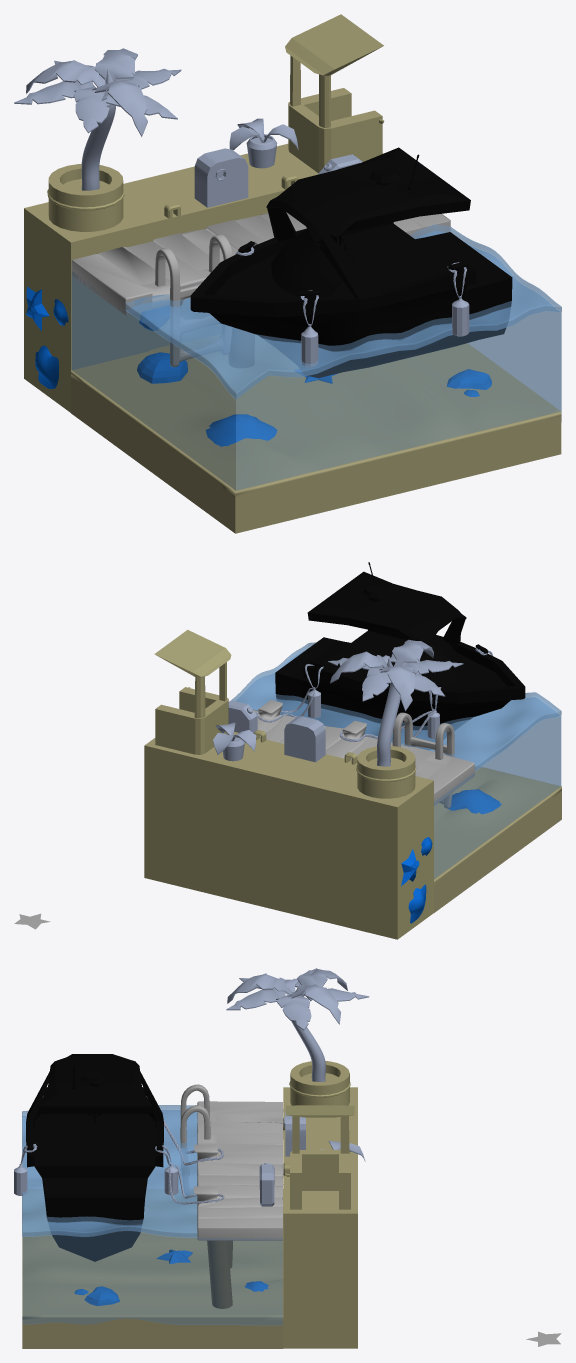
The model's file is ropeMoved.fbx.
3 views of the same model, one above another, from view 1: azimuth 30°, elevation 25°; view 2: azimuth 150°, elevation 25°; view 3: azimuth 270°, elevation 25° (orthographic). The views are drawn at different scales.
Visible parts, largest first — view 1: pPlane17, boat_Obj:pPlane3, polySurface2, PierBlock, polySurface1, pPlane16, WoodPlanks, PierBooth, TreePlanter, GlassPane, Charger, pDisc4 (+13 smaller); view 2: PierBlock, boat_Obj:pPlane3, pPlane17, pPlane16, PierBooth, polySurface2, WoodPlanks, polySurface1, TreePlanter, Charger, GlassPane, extrudedSurface1 (+7 smaller); view 3: pPlane17, boat_Obj:pPlane3, polySurface2, PierBlock, WoodPlanks, polySurface1, pPlane16, PierBooth, TreePlanter, Pier3, extrudedSurface1, pPlane4 (+7 smaller).
Part boxes in pixels (left/top/right/bottom): pPlane17: left=71, top=232, right=561, bottom=490; boat_Obj:pPlane3: left=190, top=147, right=512, bottom=377; polySurface2: left=71, top=334, right=557, bottom=490; PierBlock: left=24, top=143, right=383, bottom=412; polySurface1: left=71, top=371, right=561, bottom=533; pPlane16: left=125, top=224, right=561, bottom=399; WoodPlanks: left=71, top=212, right=450, bottom=367; PierBooth: left=285, top=14, right=384, bottom=173; TreePlanter: left=47, top=164, right=124, bottom=231; GlassPane: left=271, top=229, right=358, bottom=297; Charger: left=194, top=148, right=248, bottom=207; pDisc4: left=206, top=414, right=277, bottom=446; PierBlock: left=144, top=730, right=433, bottom=939; boat_Obj:pPlane3: left=275, top=571, right=525, bottom=749; pPlane17: left=237, top=652, right=561, bottom=878; pPlane16: left=231, top=642, right=561, bottom=771; PierBooth: left=154, top=629, right=231, bottom=754; polySurface2: left=434, top=766, right=561, bottom=879; WoodPlanks: left=253, top=700, right=474, bottom=808; polySurface1: left=434, top=787, right=561, bottom=912; TreePlanter: left=356, top=746, right=416, bottom=798; Charger: left=284, top=716, right=325, bottom=762; GlassPane: left=420, top=635, right=462, bottom=687; extrudedSurface1: left=377, top=682, right=400, bottom=766; pPlane17: left=23, top=1110, right=282, bottom=1325; boat_Obj:pPlane3: left=26, top=1054, right=163, bottom=1261; polySurface2: left=22, top=1189, right=283, bottom=1314; PierBlock: left=283, top=1087, right=357, bottom=1348; WoodPlanks: left=180, top=1084, right=283, bottom=1240; polySurface1: left=22, top=1310, right=283, bottom=1348; pPlane16: left=22, top=1105, right=197, bottom=1237; PierBooth: left=284, top=1105, right=354, bottom=1209; TreePlanter: left=289, top=1061, right=350, bottom=1105; Pier3: left=207, top=1240, right=232, bottom=1308; extrudedSurface1: left=291, top=1021, right=325, bottom=1081; pPlane4: left=276, top=995, right=311, bottom=1030.
Bounding box in the file's own units: 10.04 × 7.75 × 14.69.
